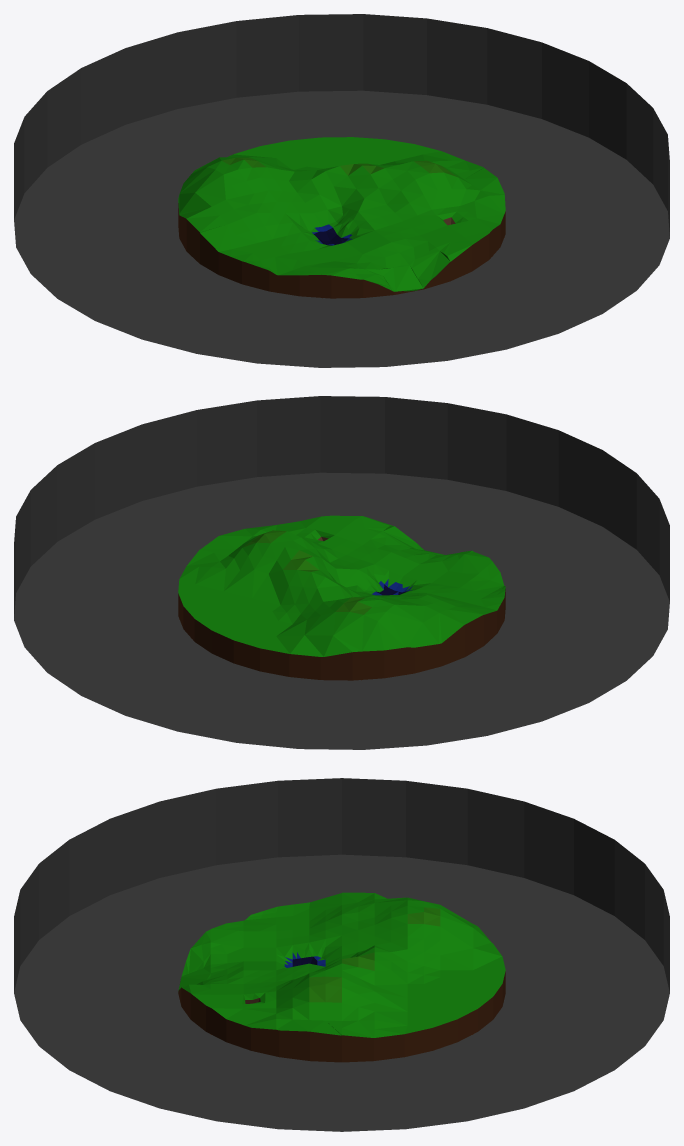
The model's file is DiscWorld03Base.obj.
3 renders of one model, top to bottom at view 1: azimuth 30°, elevation 25°; view 2: azimuth 150°, elevation 25°; view 3: azimuth 270°, elevation 25°, orthographic.
Parts seen in each view (by area): view 1: BaseCircles, BorderWall; view 2: BaseCircles, BorderWall; view 3: BaseCircles, BorderWall.
Part boxes in pixels (left/top/right/bottom): BaseCircles: left=14, top=90, right=669, bottom=367; BorderWall: left=14, top=14, right=669, bottom=235; BaseCircles: left=14, top=472, right=669, bottom=749; BorderWall: left=14, top=396, right=669, bottom=617; BaseCircles: left=14, top=854, right=669, bottom=1131; BorderWall: left=14, top=778, right=669, bottom=992.
Size of the model in its own units: 200 by 25.76 by 200.
